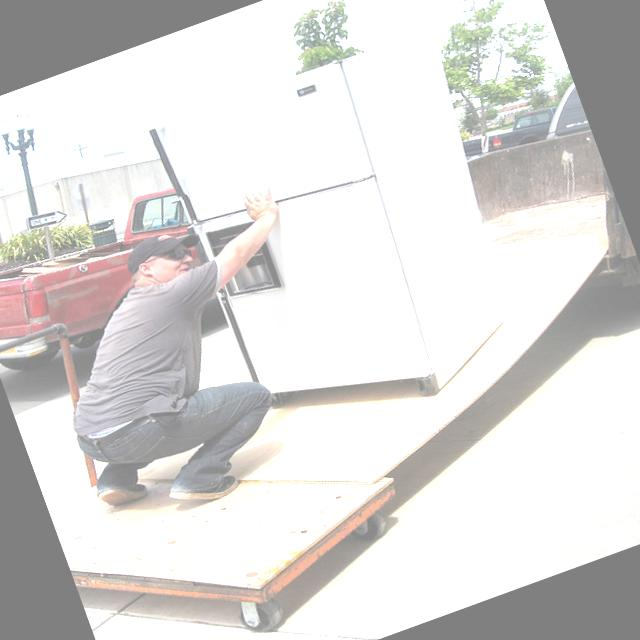Vehicle: (0, 179, 219, 380), (456, 96, 574, 166), (530, 81, 592, 146)
